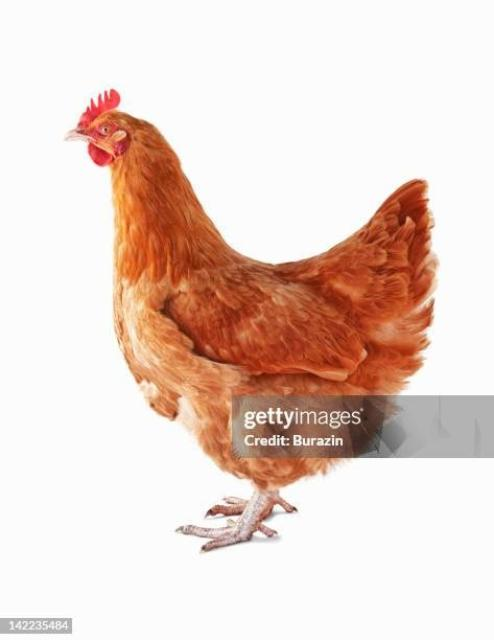Chicken: (64, 90, 441, 551)
